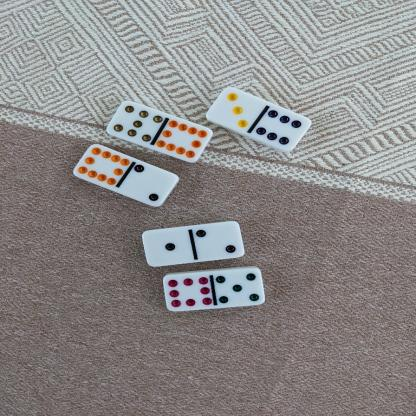pip-1: (140, 230, 192, 266)
pip-10: (154, 120, 212, 164), (73, 144, 130, 186)
pip-2: (120, 163, 179, 207), (193, 220, 244, 261)
pip-3: (206, 86, 260, 127)
pip-5: (213, 267, 266, 305)
pip-6: (254, 108, 310, 153)
pip-7: (107, 100, 162, 142)
pip-8: (161, 273, 213, 310)
